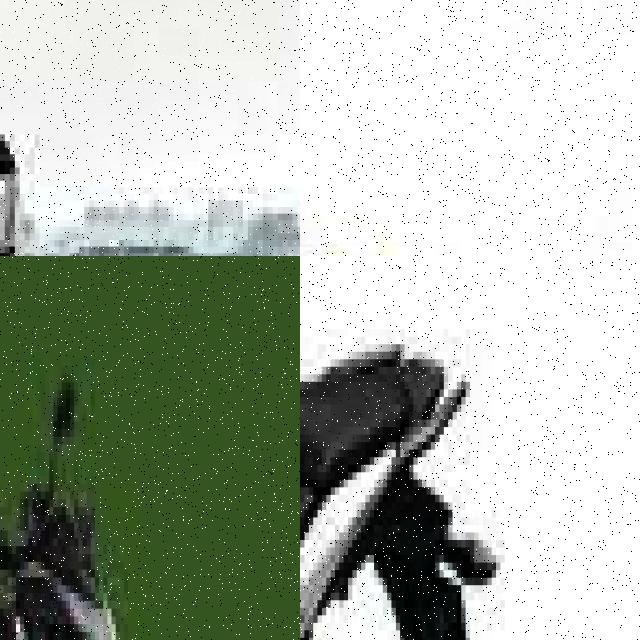bike: (300, 256, 509, 640), (0, 390, 236, 640), (0, 0, 223, 256)
car: (300, 118, 640, 256)
